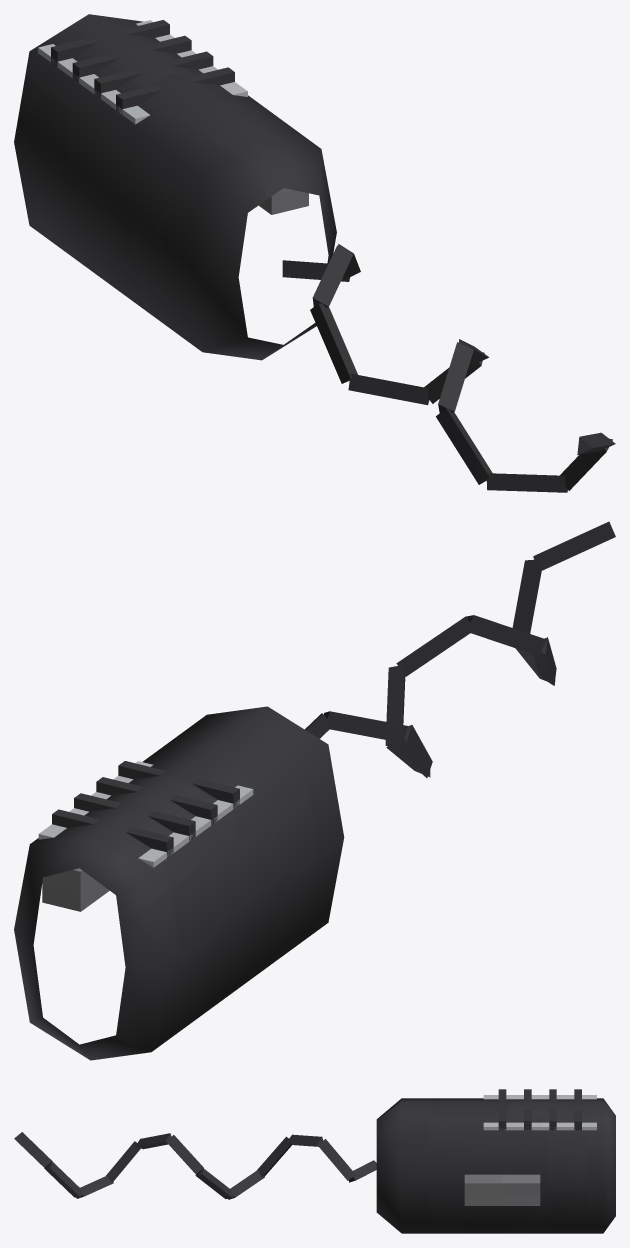
File: item_handmic.glb
The picture shows the model from 3 angles, top to bottom: view 1: azimuth 30°, elevation 25°; view 2: azimuth 150°, elevation 25°; view 3: azimuth 270°, elevation 25°; orthographic projection. The views are drawn at different scales.
Visible parts, largest first — view 1: mic; view 2: mic; view 3: mic.
Part boxes in pixels (<box>): mic: <box>14,14,615,492</box>; mic: <box>14,521,615,1060</box>; mic: <box>14,1089,615,1233</box>.
Size of the model in its own units: 0.047 by 0.056 by 0.2388.
3 materials, 3 textured.
